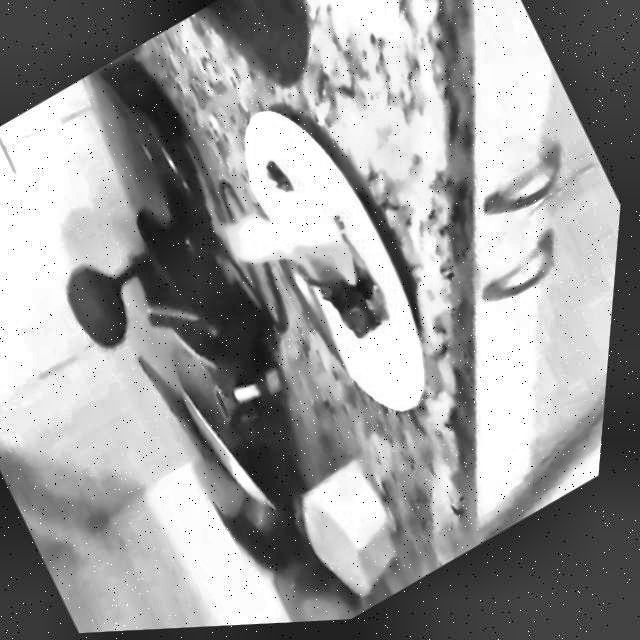Fire: (208, 159, 416, 389)
